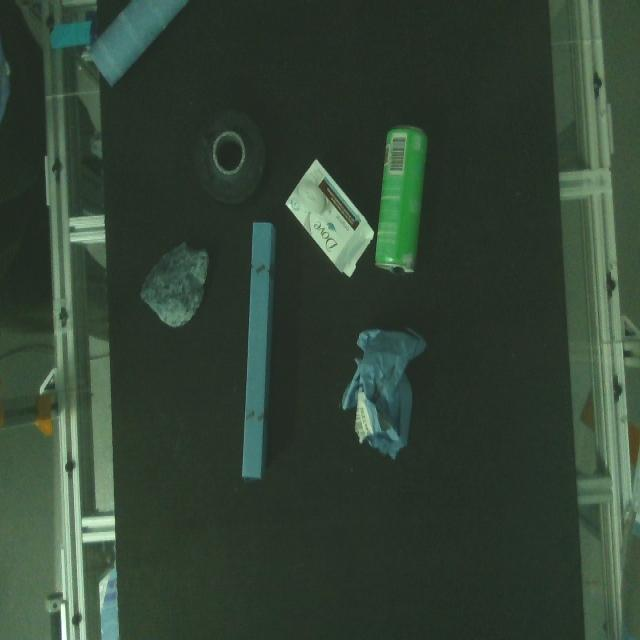non-paper: (374, 120, 430, 277), (191, 106, 269, 208), (138, 240, 211, 330)
paper: (340, 324, 429, 464), (284, 156, 376, 280), (238, 219, 277, 483)
